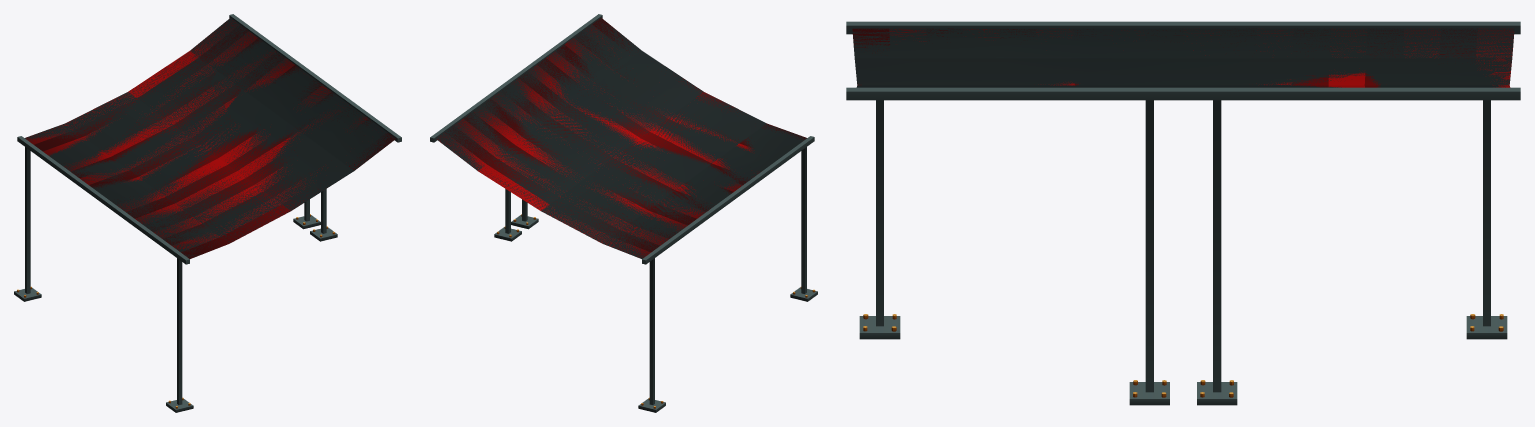
File: Canopy_1C.fbx
The picture shows the model from 3 angles, left to right: view 1: azimuth 30°, elevation 25°; view 2: azimuth 150°, elevation 25°; view 3: azimuth 270°, elevation 25°; orthographic projection. The views are drawn at different scales.
Visible parts, largest first — view 1: Canopy_1C; view 2: Canopy_1C; view 3: Canopy_1C.
Part boxes in pixels (left/top/right/bottom): Canopy_1C: left=14, top=14, right=401, bottom=412; Canopy_1C: left=430, top=14, right=817, bottom=412; Canopy_1C: left=846, top=21, right=1520, bottom=405.
Size of the model in its own units: 15.7 by 14.64 by 20.
